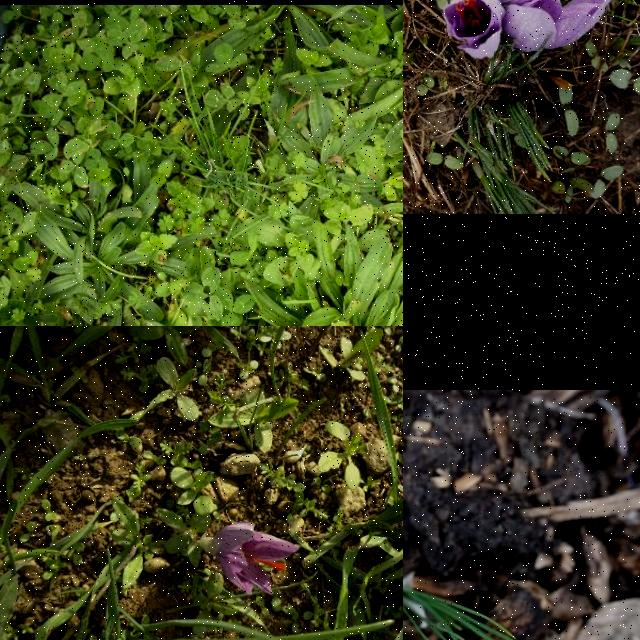flower: (503, 0, 617, 60), (208, 522, 300, 596), (443, 0, 507, 59)
